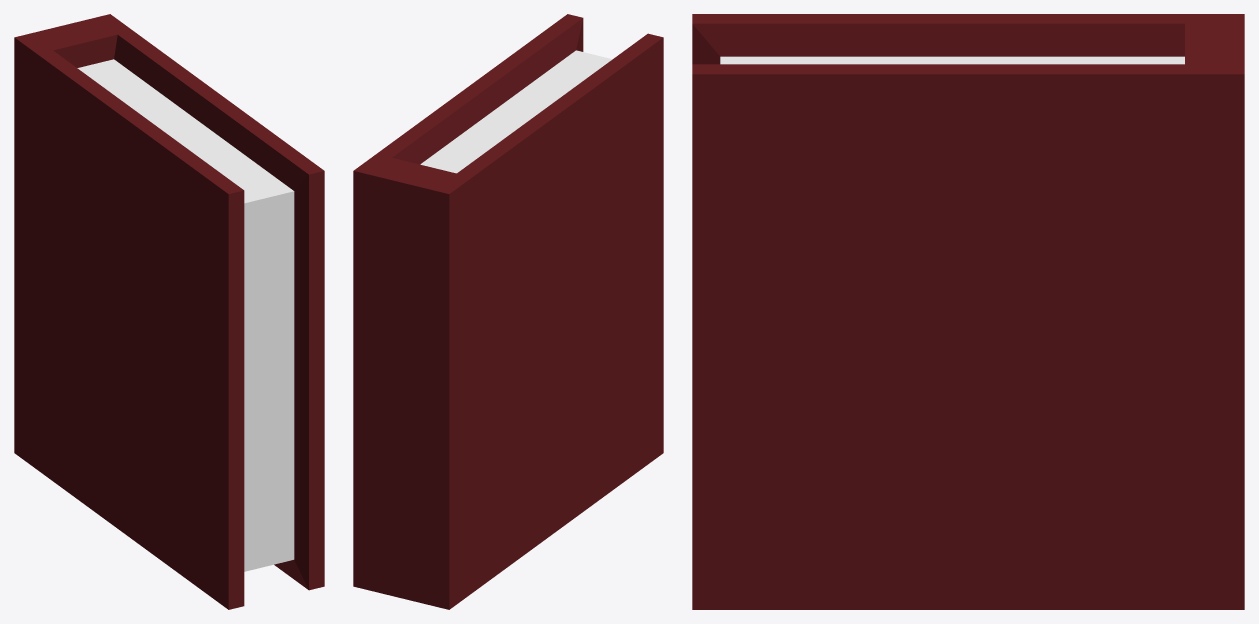
Rendered from book.fbx.
3 views of the same model, side by side, from view 1: azimuth 30°, elevation 25°; view 2: azimuth 150°, elevation 25°; view 3: azimuth 270°, elevation 25° (orthographic). The views are drawn at different scales.
Parts seen in each view (by area): view 1: book; view 2: book; view 3: book.
Part boxes in pixels (x1,y1,x2,y2): book: [14, 14, 324, 609]; book: [353, 14, 663, 609]; book: [692, 14, 1244, 609].
Bounding box in the file's own units: 5.51 × 22.84 × 21.34.
